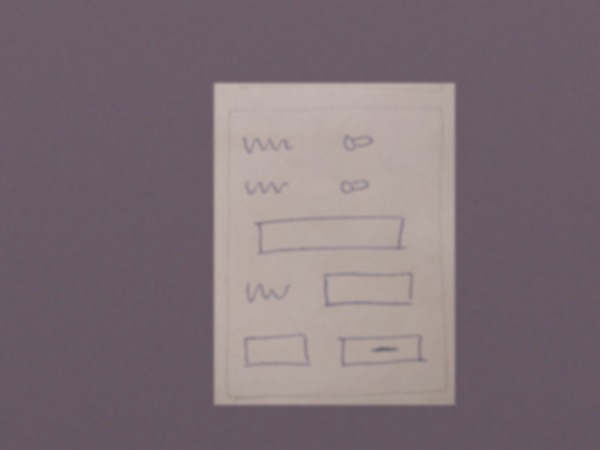button: (333, 329, 433, 372)
switch: (338, 128, 381, 155), (336, 171, 375, 196)
text: (241, 131, 297, 159), (240, 277, 294, 305), (241, 174, 294, 196)
text_input: (246, 213, 416, 259), (318, 266, 419, 312), (240, 329, 316, 374)
